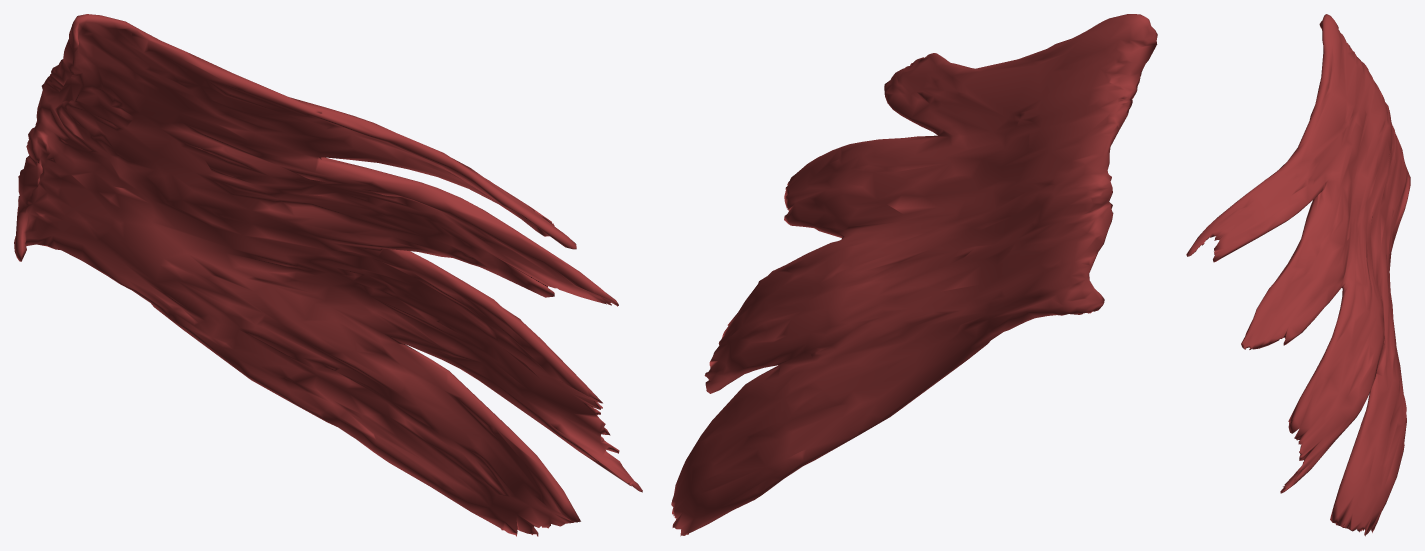
The model's file is serratus-posterior-superior-muscle-l.glb.
The picture shows the model from 3 angles, left to right: view 1: azimuth 30°, elevation 25°; view 2: azimuth 150°, elevation 25°; view 3: azimuth 270°, elevation 25°; orthographic projection. The views are drawn at different scales.
Visible parts, largest first — view 1: Serratus posterior superior muscle.l; view 2: Serratus posterior superior muscle.l; view 3: Serratus posterior superior muscle.l.
Boxes of the visible parts, box(x1,y1,x2,y2) form: Serratus posterior superior muscle.l: box(14, 14, 642, 536); Serratus posterior superior muscle.l: box(671, 14, 1157, 536); Serratus posterior superior muscle.l: box(1186, 14, 1410, 536).
Size of the model in its own units: 0.1055 by 0.1257 by 0.0664.
